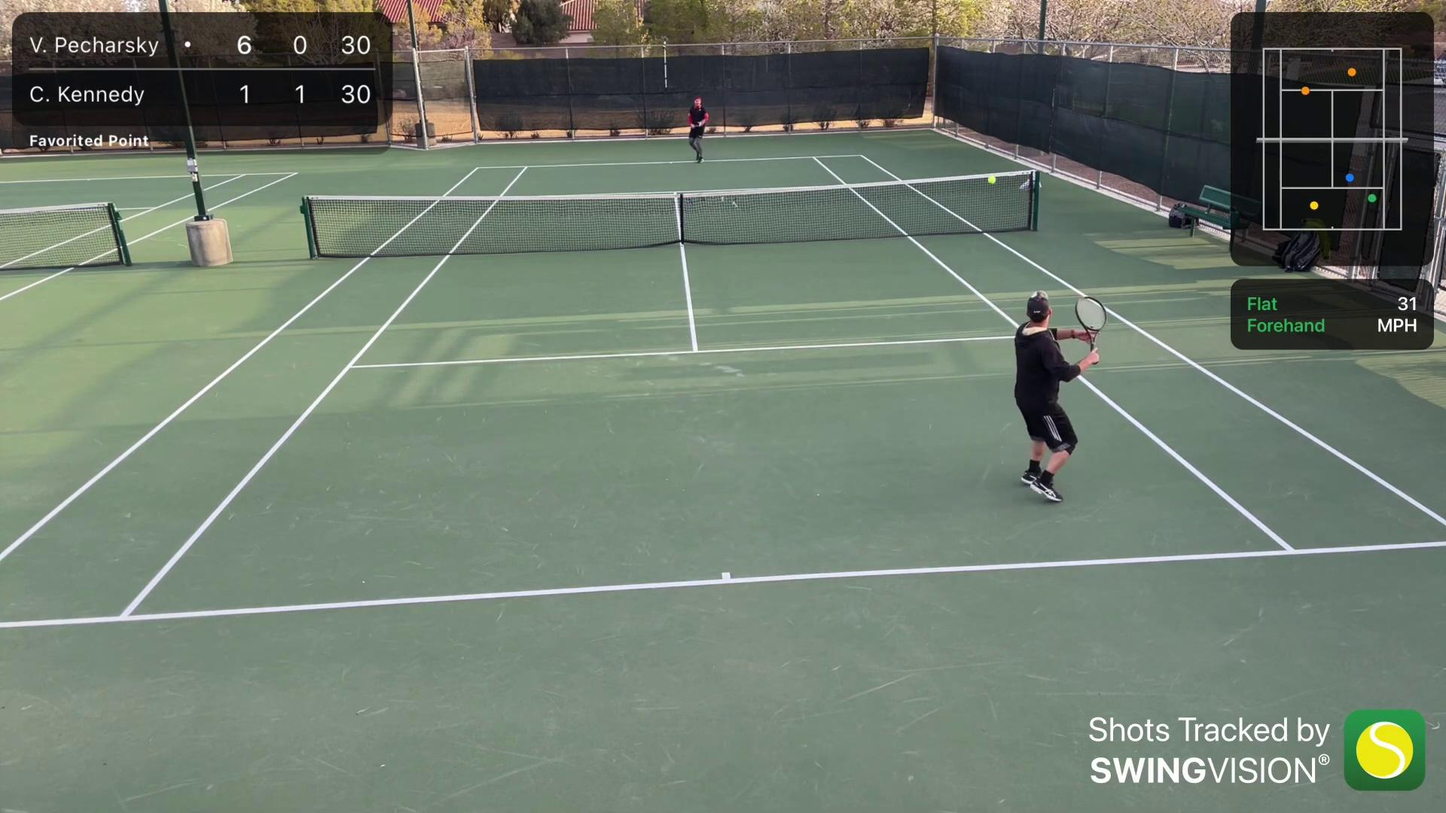ball: (985, 173, 1000, 186)
